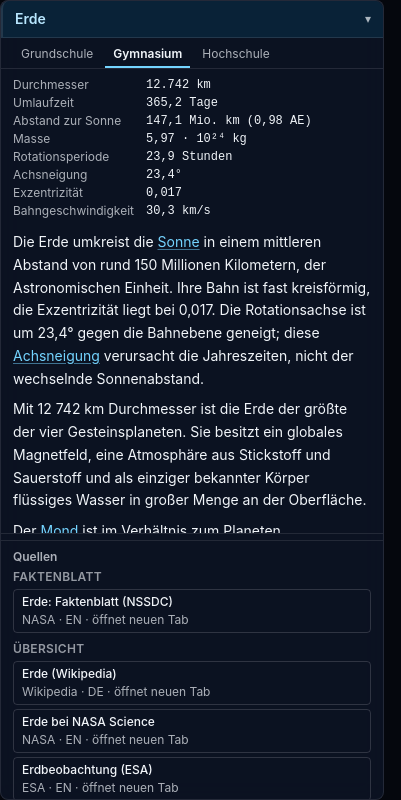
InfoPanel › Objektverweis fährt die Kamera und wechselt den Text
This screenshot has width=401, height=800.
Click the button "Mond": click(59, 531) [40,520,78,543]
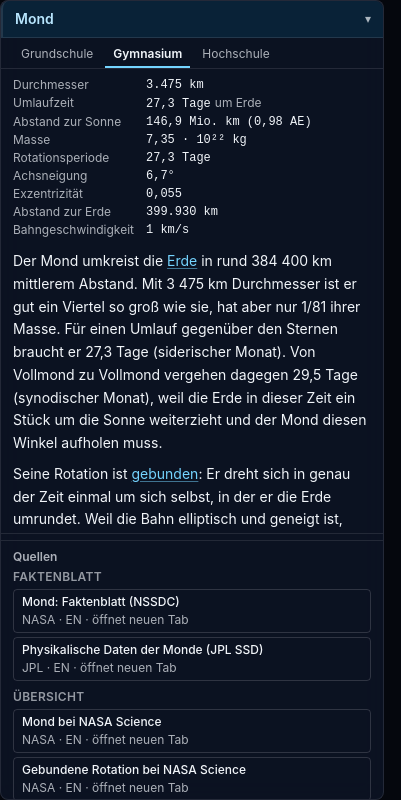
Expected: the heading "Mond" is shown, [15,9,54,29]
